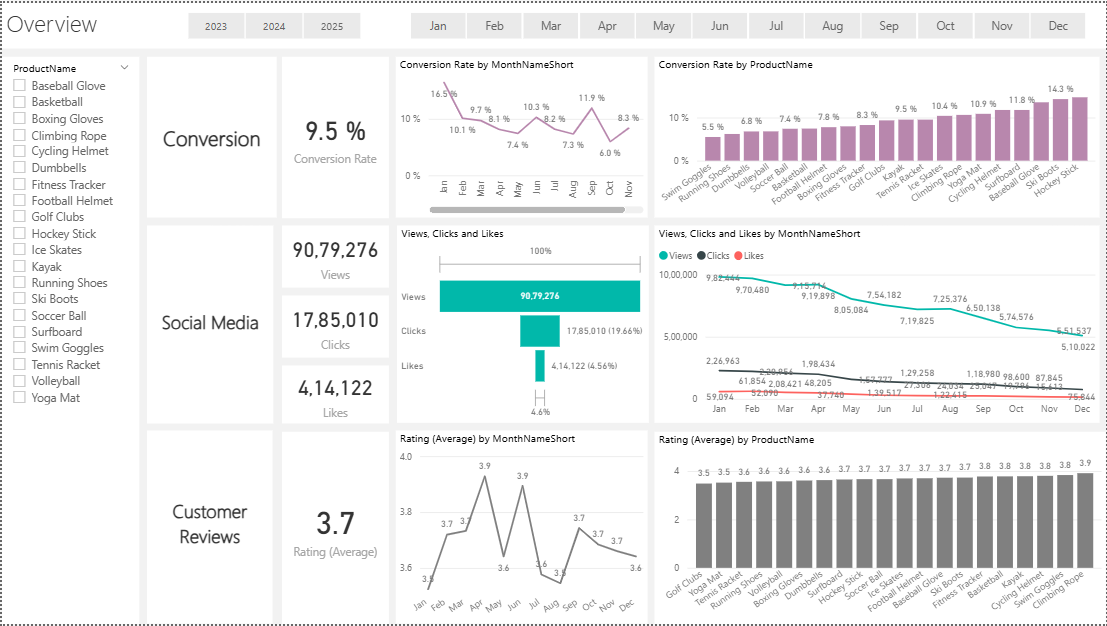

Layout of this report page (visuals, bound fields, positions):
{"tool":"powerbi","page":{"name":"Overview","canvas":[1280,720],"ordinal":0},"visuals":[{"type":"textbox","box":[0,0,1280,52.6],"z":0},{"type":"slicer","fields":{"Values":["dim_products.ProductName"]},"box":[0,61.6,159.5,658.5],"z":1000},{"type":"card","fields":{"Values":["_Calculations.Conversion Rate"]},"box":[324.1,61.9,123.9,186.8],"z":2000},{"type":"card","fields":{"Values":["_Calculations.Rating (Average)"]},"box":[324.1,496.5,123.9,224],"z":3000},{"type":"lineChart","fields":{"Y":["_Calculations.Conversion Rate"],"Category":["Calendar.MonthNameShort"]},"box":[457.1,61.9,292.3,186.7],"z":4000},{"type":"columnChart","fields":{"Category":["dim_products.ProductName"],"Y":["_Calculations.Conversion Rate"]},"box":[756.7,61.9,516.3,186.7],"z":5000},{"type":"slicer","fields":{"Values":["Calendar.Year"]},"box":[189.4,4.6,249.5,43.7],"z":6000},{"type":"slicer","fields":{"Values":["Calendar.MonthNameShort"]},"box":[448,4.6,832.3,43.7],"z":7000},{"type":"lineChart","fields":{"Y":["_Calculations.Views","_Calculations.Clicks","_Calculations.Likes"],"Category":["Calendar.MonthNameShort"]},"box":[756.6,258.1,516.1,229.2],"z":8000},{"type":"lineChart","fields":{"Category":["Calendar.MonthNameShort"],"Y":["_Calculations.Rating (Average)"]},"box":[457.1,496.3,292.3,224],"z":9000},{"type":"columnChart","fields":{"Category":["dim_products.ProductName"],"Y":["_Calculations.Rating (Average)"]},"box":[756.6,496.5,523.4,224],"z":10000},{"type":"funnel","fields":{"Y":["_Calculations.Views","_Calculations.Clicks","_Calculations.Likes"]},"box":[457.3,258.1,292.1,229.2],"z":11000},{"type":"card","fields":{"Values":["_Calculations.Views"]},"box":[324.2,257.7,123.8,71.9],"z":12000},{"type":"textbox","box":[168.5,61.9,150.3,186.7],"z":13000},{"type":"textbox","box":[168.5,257.7,146.6,229.5],"z":14000},{"type":"textbox","box":[168.5,496.3,145.7,224],"z":15000},{"type":"card","fields":{"Values":["_Calculations.Clicks"]},"box":[324.2,338.8,123.8,71.9],"z":16000},{"type":"card","fields":{"Values":["_Calculations.Likes"]},"box":[324.2,419.8,123.8,67.4],"z":17000}]}

Visuals, with their boxes in screenshot pixels (x1, y1, x2, y2), scaled from the page's 1280x720 canvas onto the 1107x626 screenshot:
textbox: 0/0/1106/46
slicer - dim_products.ProductName: 0/54/138/625
card - _Calculations.Conversion Rate: 280/54/387/216
card - _Calculations.Rating (Average): 280/432/387/625
lineChart - _Calculations.Conversion Rate x Calendar.MonthNameShort: 395/54/648/216
columnChart - dim_products.ProductName x _Calculations.Conversion Rate: 654/54/1101/216
slicer - Calendar.Year: 164/4/380/42
slicer - Calendar.MonthNameShort: 387/4/1106/42
lineChart - _Calculations.Views x _Calculations.Clicks: 654/224/1101/424
lineChart - Calendar.MonthNameShort x _Calculations.Rating (Average): 395/432/648/625
columnChart - dim_products.ProductName x _Calculations.Rating (Average): 654/432/1106/625
funnel - _Calculations.Views x _Calculations.Clicks: 395/224/648/424
card - _Calculations.Views: 280/224/387/287
textbox: 146/54/276/216
textbox: 146/224/273/424
textbox: 146/432/272/625
card - _Calculations.Clicks: 280/295/387/357
card - _Calculations.Likes: 280/365/387/424
